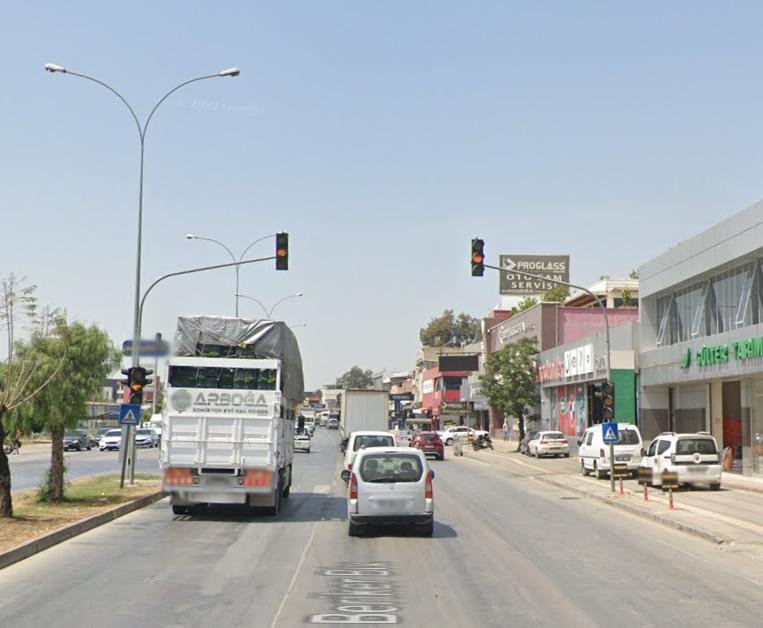yellowlight: (128, 368, 148, 404), (275, 232, 288, 271), (472, 240, 484, 275)
